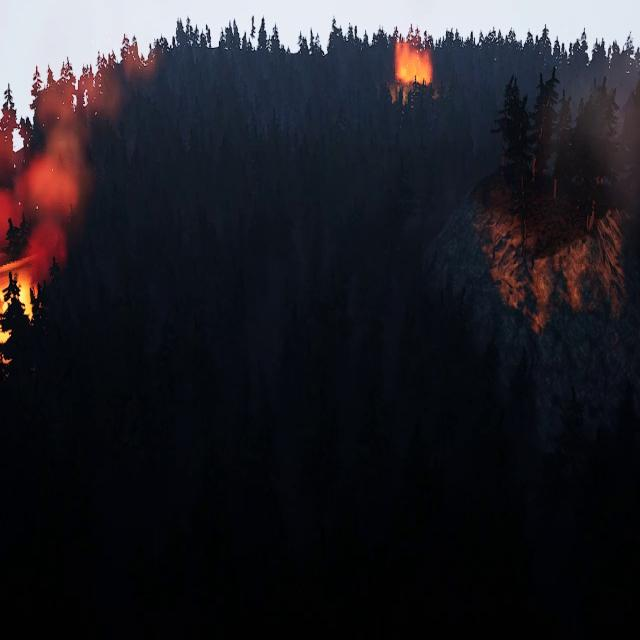fire: (0, 255, 39, 360), (396, 41, 434, 91)
smoke: (0, 32, 158, 283)
